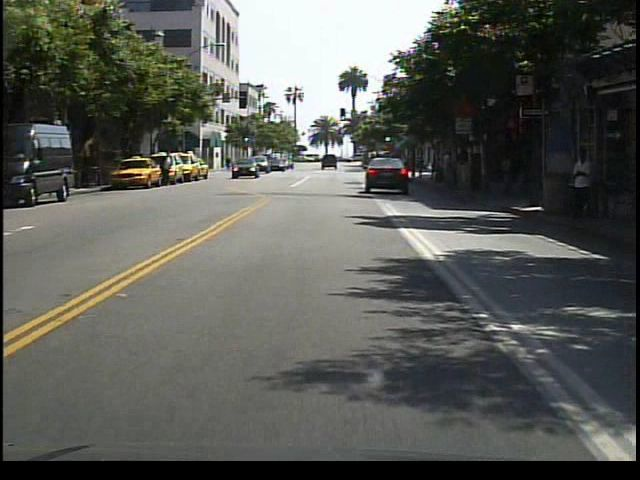person: (564, 145, 600, 227), (160, 152, 176, 190)
